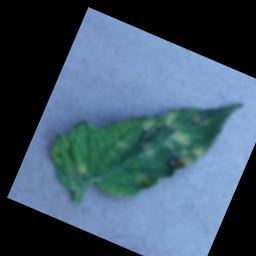Leaf_Mold: (127, 99, 215, 177)
